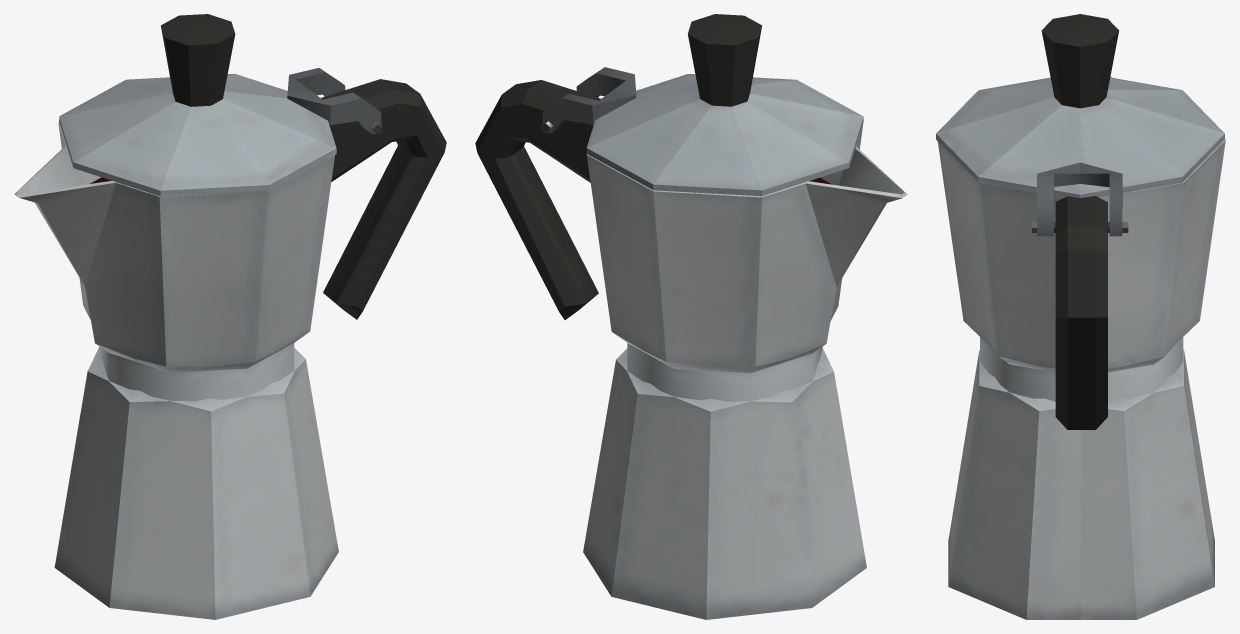
The model's file is bialetti_moka_express.glb.
The picture shows the model from 3 angles, left to right: view 1: azimuth 30°, elevation 25°; view 2: azimuth 150°, elevation 25°; view 3: azimuth 270°, elevation 25°; orthographic projection.
Parts seen in each view (by area): view 1: SM_Kettle, SM_KettleLid; view 2: SM_Kettle, SM_KettleLid; view 3: SM_Kettle, SM_KettleLid.
Part boxes in pixels (x1=…): SM_Kettle: x1=14, y1=79, x2=446, y2=619; SM_KettleLid: x1=59, y1=14, x2=382, y2=196; SM_Kettle: x1=475, y1=80, x2=907, y2=619; SM_KettleLid: x1=541, y1=14, x2=863, y2=196; SM_Kettle: x1=937, y1=76, x2=1225, y2=619; SM_KettleLid: x1=936, y1=14, x2=1224, y2=236.
Size of the model in its own units: 0.0296 by 0.0357 by 0.0174.
1 material, 1 textured.
